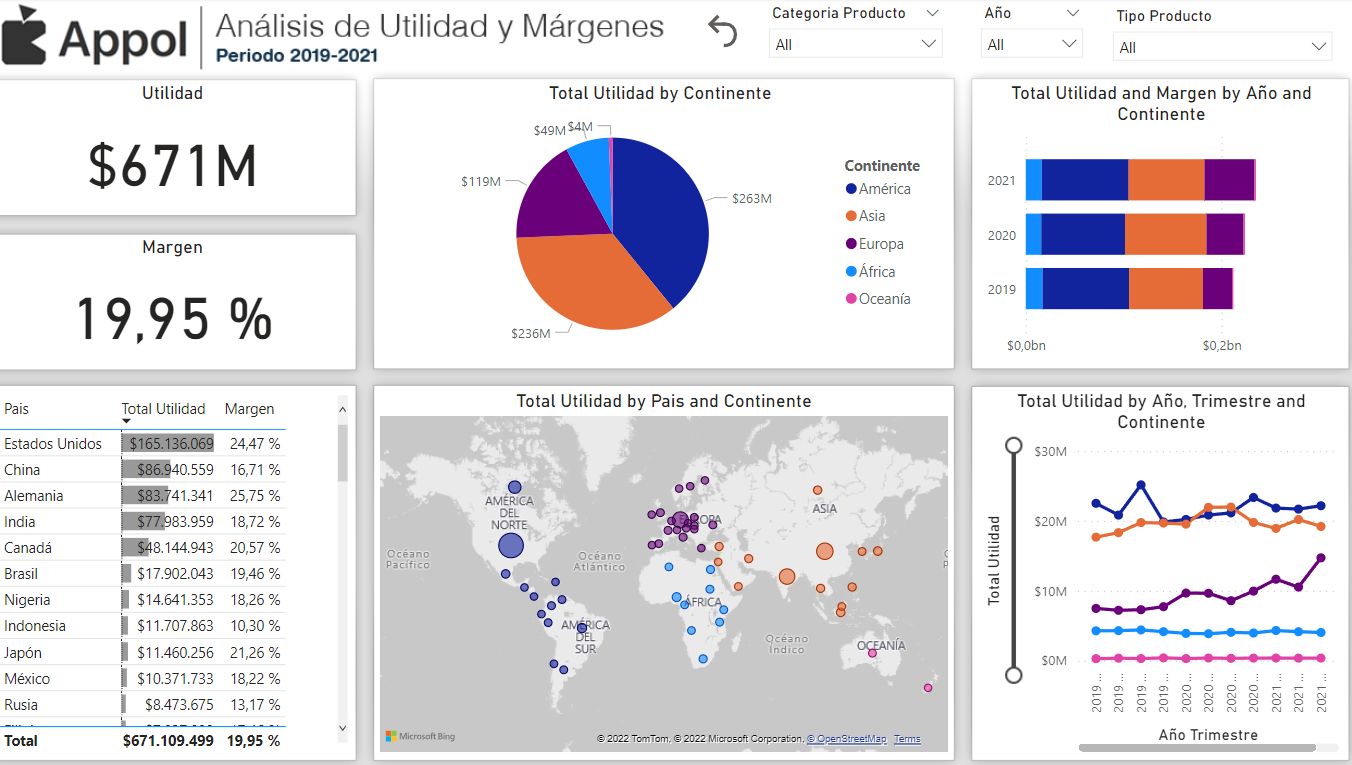

The page's visual inventory and layout, read from the dashboard file:
{"tool":"powerbi","page":{"name":"Analisis","canvas":[1280,720],"ordinal":0},"visuals":[{"type":"card","title":"Utilidad","fields":{"Values":["Tabla Datos.Total Utilidad"]},"box":[15.6,77.2,332.2,119.7],"z":0},{"type":"tableEx","fields":{"Values":["Tabla Datos.Pais","Tabla Datos.Total Utilidad","Tabla Datos.Margen"]},"box":[15.6,360,332.2,338.3],"z":1000},{"type":"card","title":"Margen","fields":{"Values":["Tabla Datos.Margen"]},"box":[15.6,218.6,332.2,118.8],"z":2000},{"type":"barChart","fields":{"Category":["Tabla Datos.Año"],"Series":["Tabla Datos.Continente"],"Y":["Tabla Datos.Total Utilidad"]},"box":[923,77.2,335.7,260.2],"z":3000},{"type":"pieChart","fields":{"Category":["Tabla Datos.Continente"],"Y":["Tabla Datos.Total Utilidad"]},"box":[367.8,77.2,524.8,260.2],"z":4000},{"type":"map","fields":{"Size":["Tabla Datos.Total Utilidad"],"Category":["Tabla Datos.Pais"],"Series":["Tabla Datos.Continente"]},"box":[367.8,360,531.8,338.3],"z":5000},{"type":"lineChart","fields":{"Category":["Tabla Datos.Año","Tabla Datos.Trimestre"],"Y":["Tabla Datos.Total Utilidad"],"Series":["Tabla Datos.Continente"]},"box":[923,360,335.7,338.3],"z":5001},{"type":"slicer","fields":{"Values":["Tabla Datos.Año"]},"box":[915.2,0,113.6,59.9],"z":5002},{"type":"slicer","fields":{"Values":["Tabla Productos.Categoria Producto"]},"box":[720,0,179.6,65.1],"z":5003},{"type":"slicer","fields":{"Values":["Tabla Datos.Tipo Producto"]},"box":[1036.6,2.6,222.1,57.3],"z":5004},{"type":"actionButton","box":[668,10.4,46,39.9],"z":5005}]}

Visuals, with their boxes in screenshot pixels (x1, y1, x2, y2), scaled from the page's 1280x720 canvas onto the 1352x765 screenshot:
"Utilidad" card: [16,82,367,209]
tableEx - Tabla Datos.Pais x Tabla Datos.Total Utilidad: [16,382,367,742]
"Margen" card: [16,232,367,358]
barChart - Tabla Datos.Año x Tabla Datos.Continente: [975,82,1330,358]
pieChart - Tabla Datos.Continente x Tabla Datos.Total Utilidad: [388,82,943,358]
map - Tabla Datos.Total Utilidad x Tabla Datos.Pais: [388,382,950,742]
lineChart - Tabla Datos.Año x Tabla Datos.Trimestre: [975,382,1330,742]
slicer - Tabla Datos.Año: [967,0,1087,64]
slicer - Tabla Productos.Categoria Producto: [760,0,950,69]
slicer - Tabla Datos.Tipo Producto: [1095,3,1330,64]
actionButton: [706,11,754,53]
